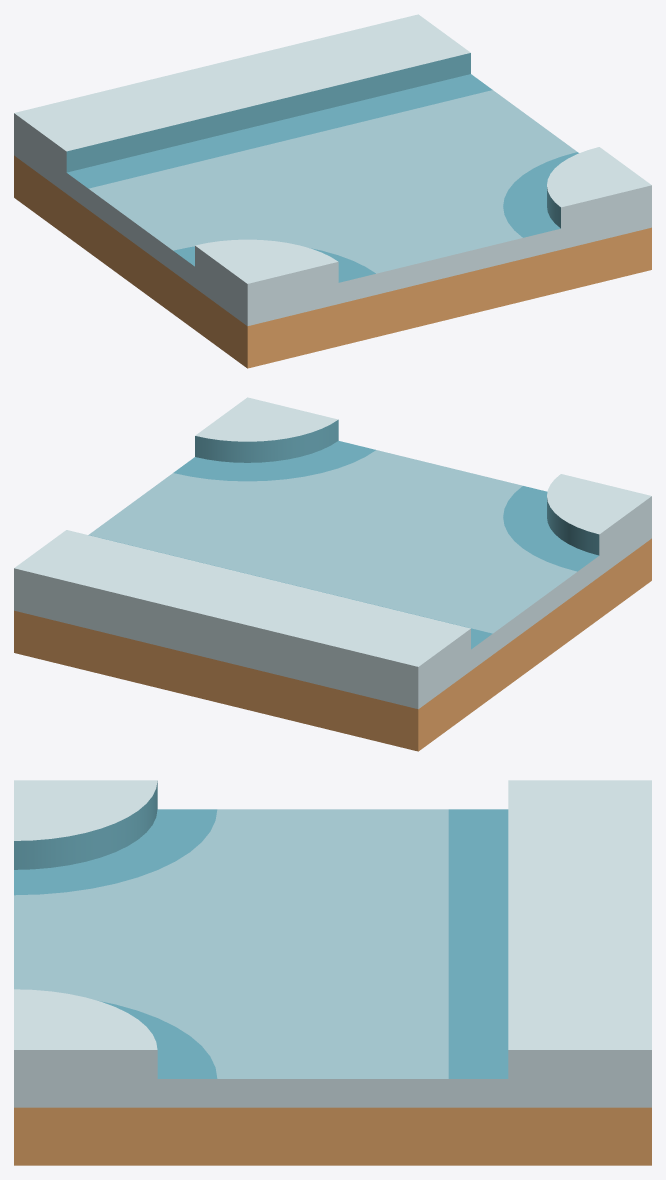
Rendered from snow_tile_split.dae.
The picture shows the model from 3 angles, top to bottom: view 1: azimuth 30°, elevation 25°; view 2: azimuth 150°, elevation 25°; view 3: azimuth 270°, elevation 25°; orthographic projection. The views are drawn at different scales.
Visible parts, largest first — view 1: snow_tile_split; view 2: snow_tile_split; view 3: snow_tile_split.
Part boxes in pixels (left/top/right/bottom): snow_tile_split: left=14, top=14, right=651, bottom=368; snow_tile_split: left=14, top=397, right=651, bottom=751; snow_tile_split: left=14, top=780, right=651, bottom=1165.
Size of the model in its own units: 1 by 0.2 by 1.
